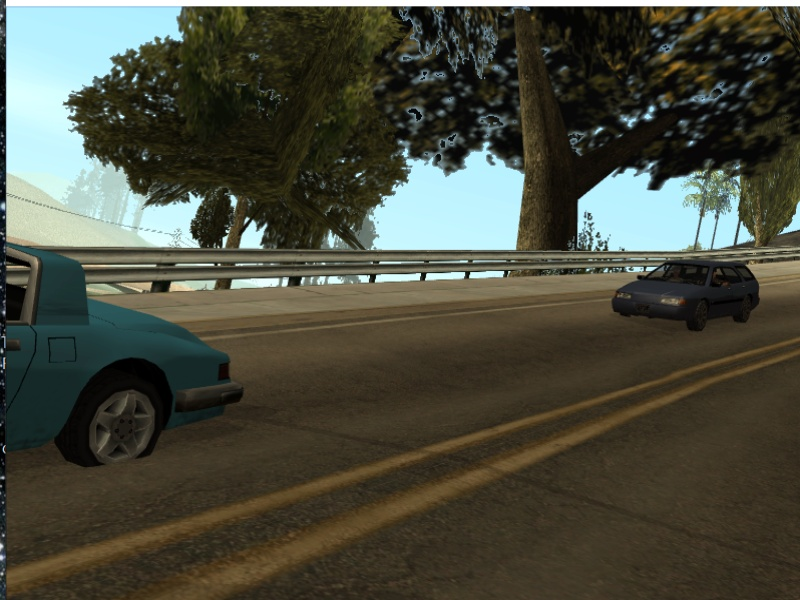vehicle: (6, 236, 244, 473), (612, 250, 761, 334)
